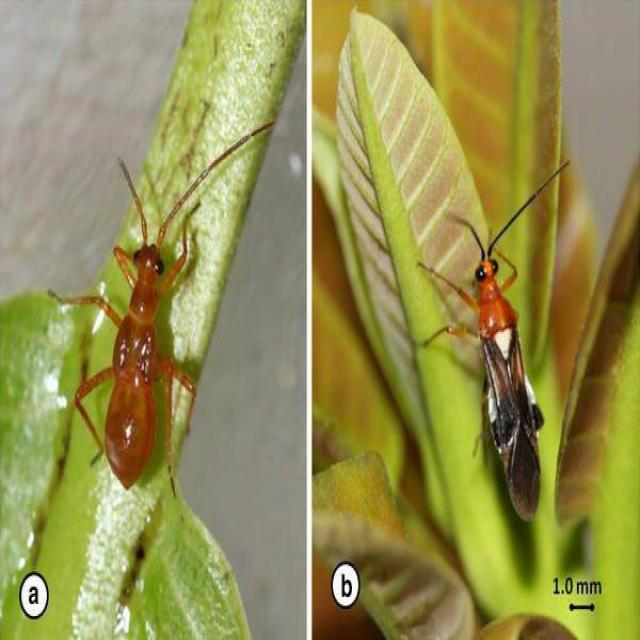Miridae-Adult-: (406, 140, 580, 522)
